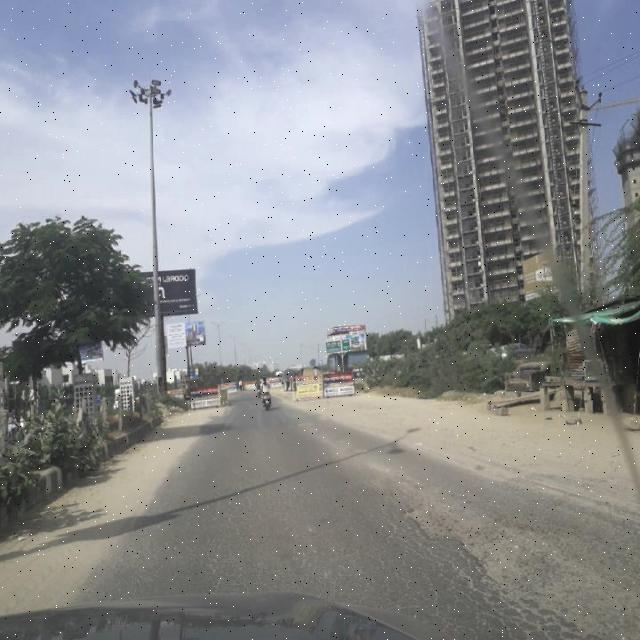D20: (196, 489, 588, 632)
D40: (396, 484, 638, 632)
